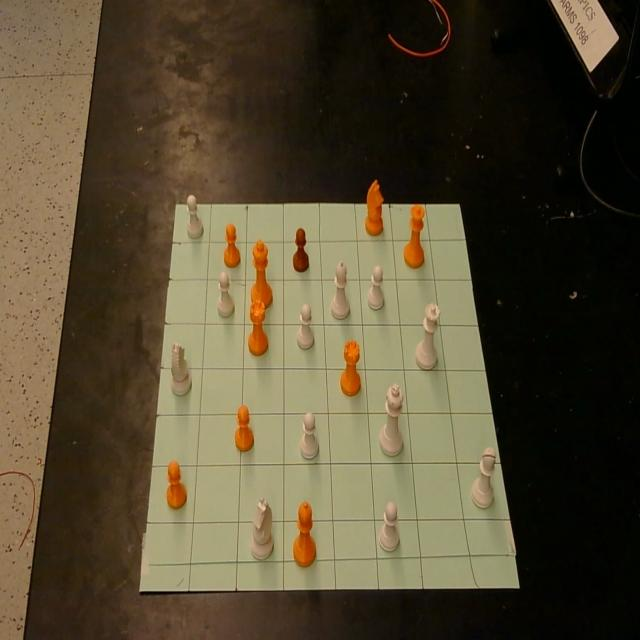orange_bishop: (293, 502, 316, 566), (223, 222, 240, 268)
orange_king: (251, 238, 272, 310)
orange_knight: (365, 180, 384, 237)
orange_pawn: (166, 460, 187, 509), (235, 404, 254, 452), (293, 229, 309, 273)
orange_queen: (404, 203, 425, 268)
orange_rook: (341, 338, 361, 396), (248, 298, 268, 355)
white_bishop: (330, 261, 350, 319)
white_king: (379, 383, 404, 456), (415, 302, 440, 369)
white_knight: (250, 497, 274, 560), (170, 342, 191, 396)
white_pawn: (471, 447, 496, 508), (378, 500, 399, 552), (299, 411, 319, 460), (186, 195, 204, 240), (217, 270, 234, 317), (367, 265, 384, 311), (297, 304, 314, 349)
